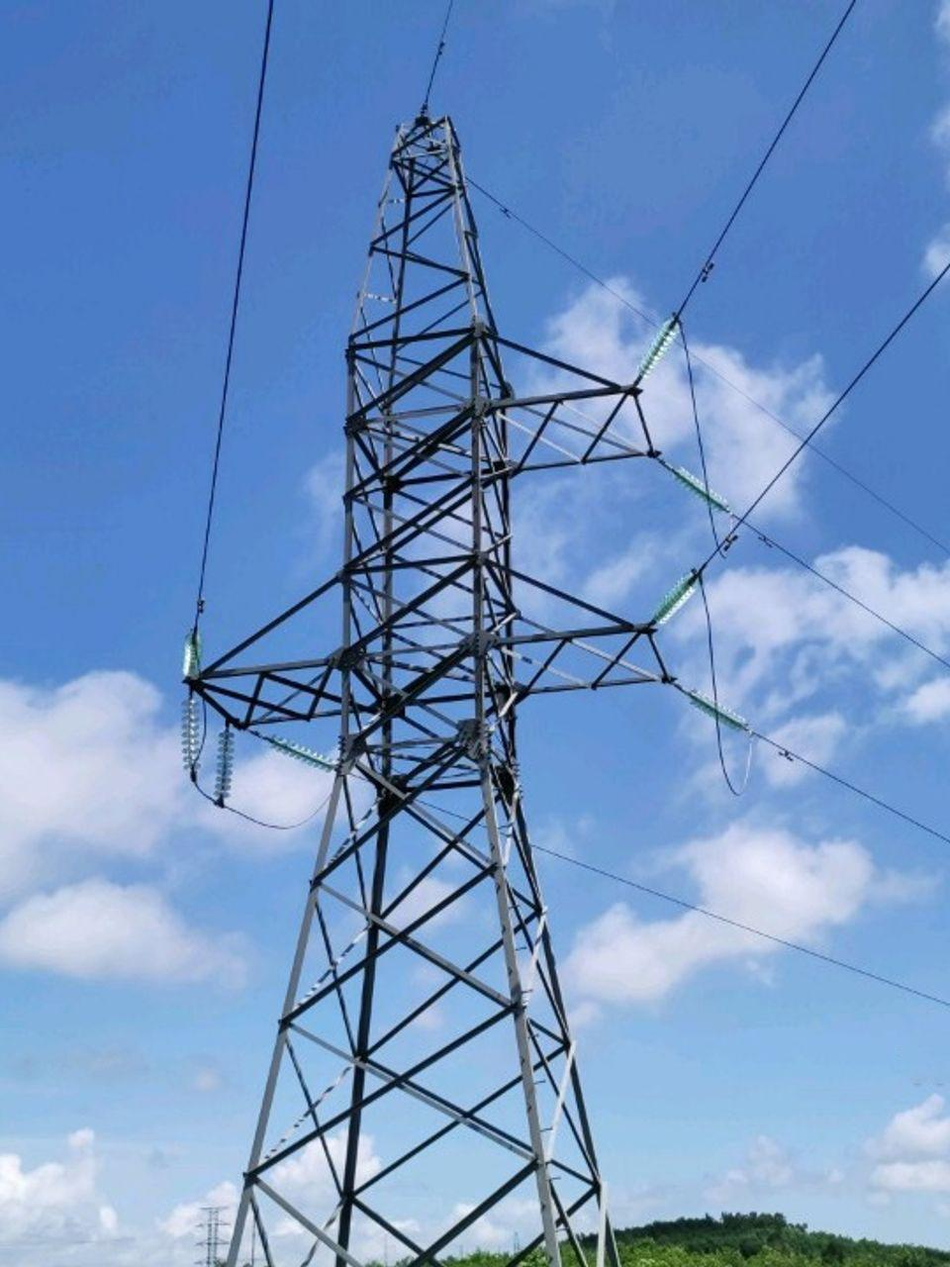tower: (176, 92, 684, 1267)
